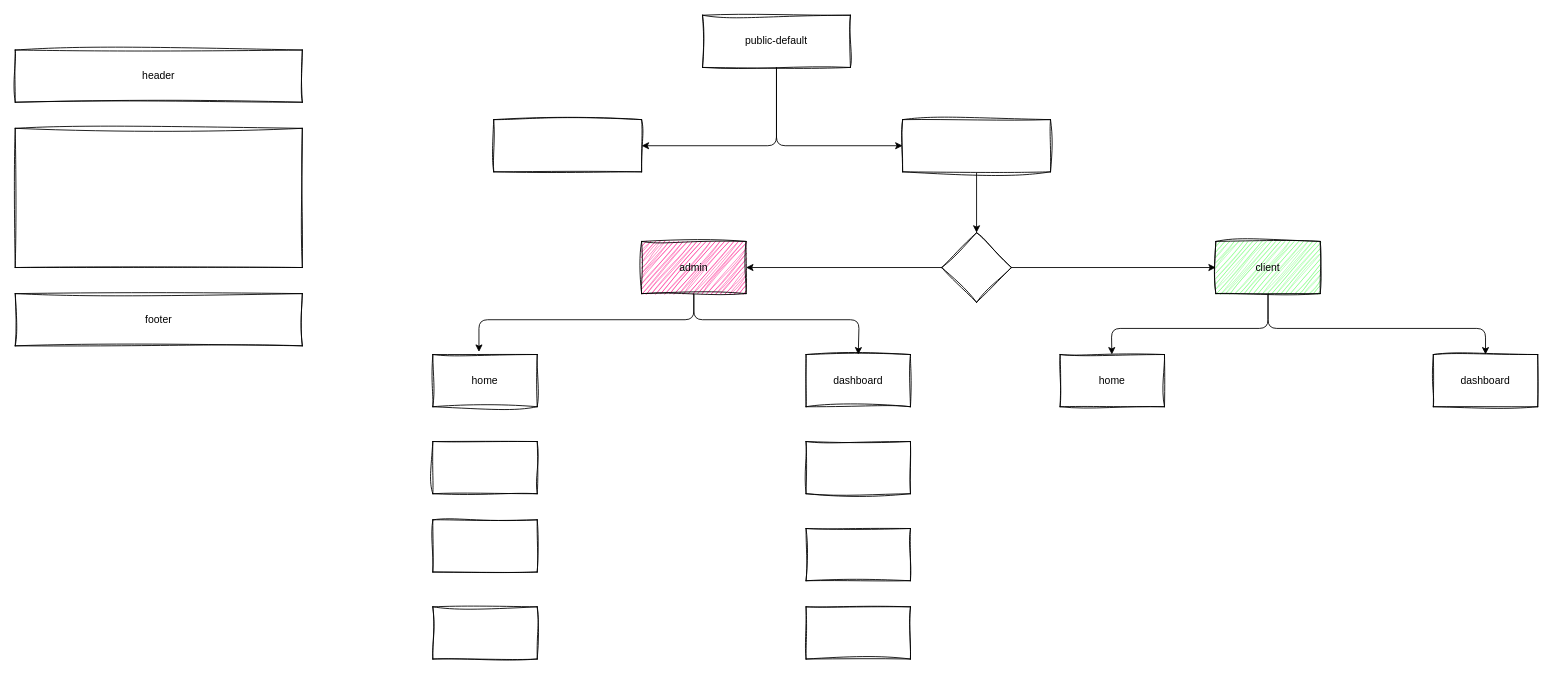
The diagram is 1553 pixels wide and 674 high, and some of its shapes have lost their labels. Here are the shapes that lost their labels. From the top down, the centre of each, then its label:
[567,145]: registration
[976,145]: log-in
[158,197]: body
[976,267]: swhich
